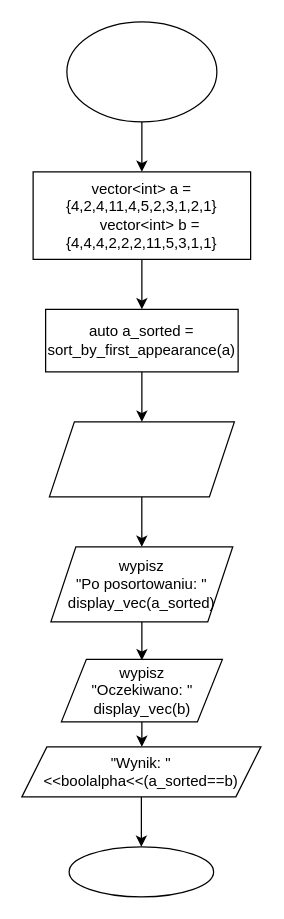
Image size: 284x919. Some labels were removed from this diagram. Each missing label, with the box of its shape:
START void run_tests(): (66, 21, 217, 122)
STOP: (68, 846, 214, 897)
wypisz "Do posortortowania" display_vec(a): (48, 421, 234, 497)
